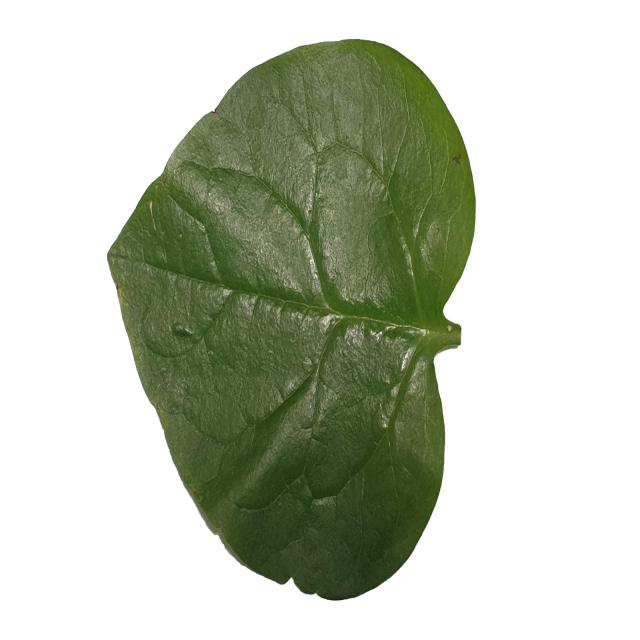Medicinal-Basale: (106, 38, 477, 602)
